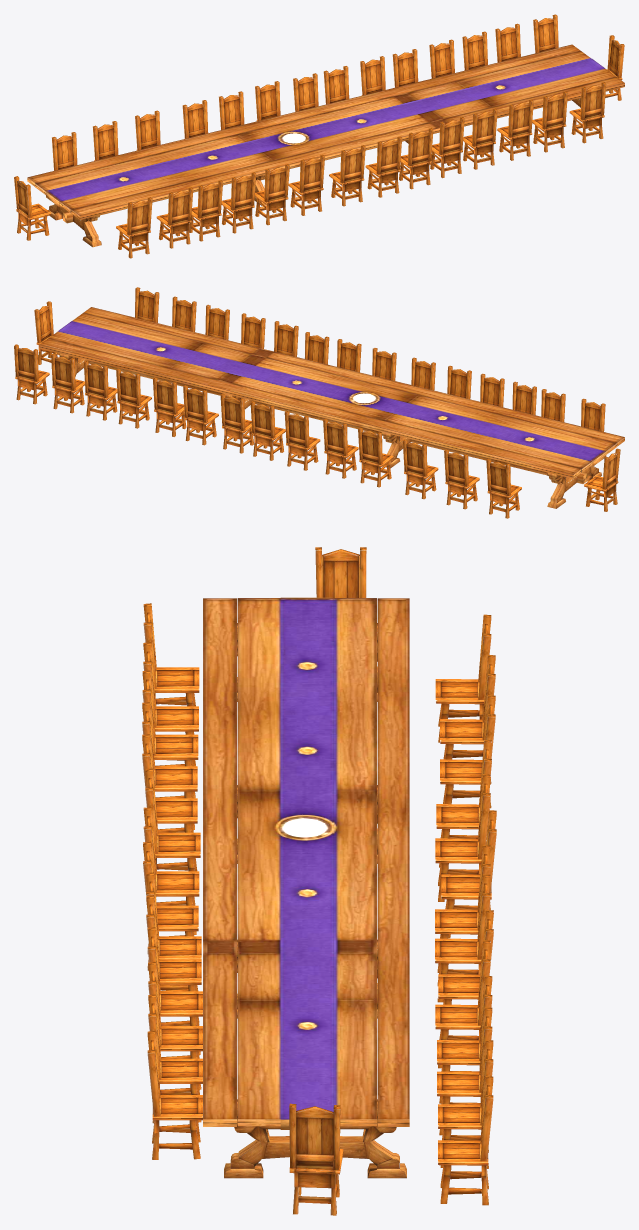
The model's file is hallTable.glb.
The picture shows the model from 3 angles, top to bottom: view 1: azimuth 30°, elevation 25°; view 2: azimuth 150°, elevation 25°; view 3: azimuth 270°, elevation 25°; orthographic projection. The views are drawn at different scales.
Visible parts, largest first — view 1: HALLtABLE, HALLtABLE.chairs; view 2: HALLtABLE, HALLtABLE.chairs; view 3: HALLtABLE, HALLtABLE.chairs.
Boxes of the visible parts, bbox=[...] form: HALLtABLE: bbox=[14, 35, 624, 247]; HALLtABLE.chairs: bbox=[51, 14, 606, 258]; HALLtABLE: bbox=[34, 301, 624, 511]; HALLtABLE.chairs: bbox=[14, 287, 605, 518]; HALLtABLE: bbox=[203, 547, 409, 1215]; HALLtABLE.chairs: bbox=[142, 603, 496, 1205].
Size of the model in its own units: 22.08 by 2.15 by 5.84.
Materials: 1 (1 with a texture image).
